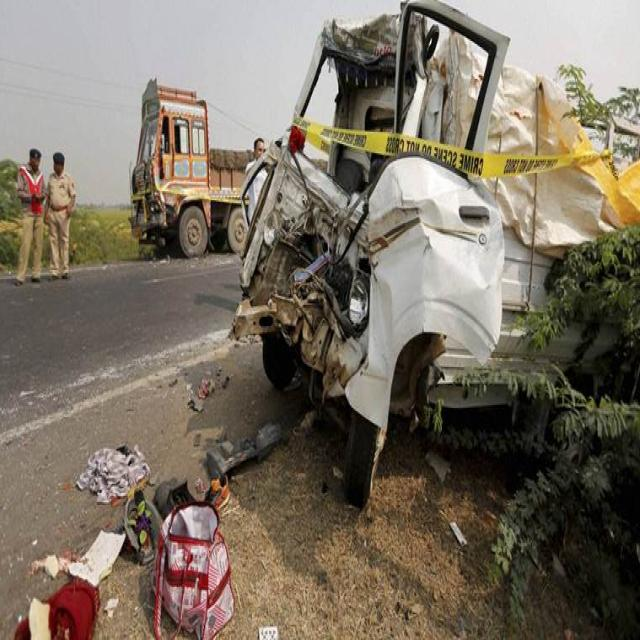truck: (131, 79, 250, 256)
